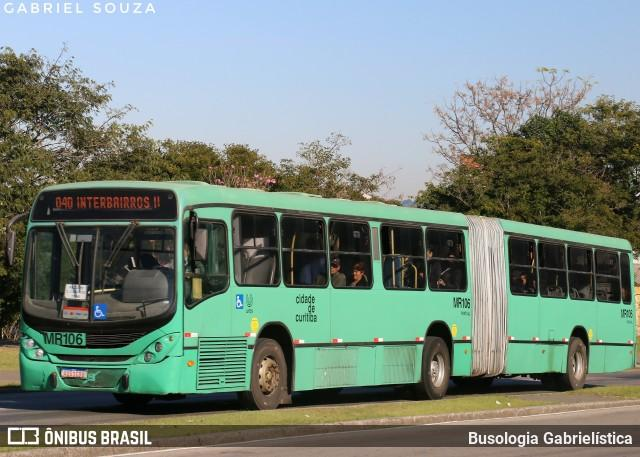INTERBAIRROS II: (74, 193, 164, 212)
